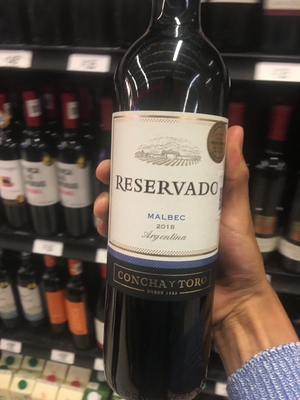reservado malbec: (96, 4, 239, 389)
